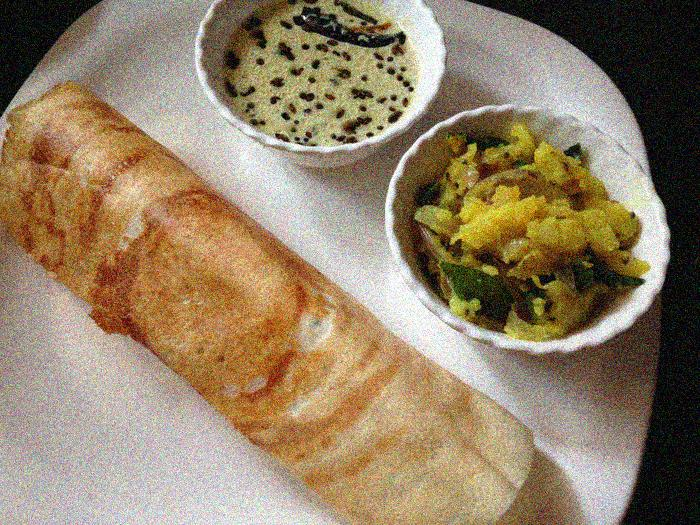dosa: (1, 83, 540, 525)
